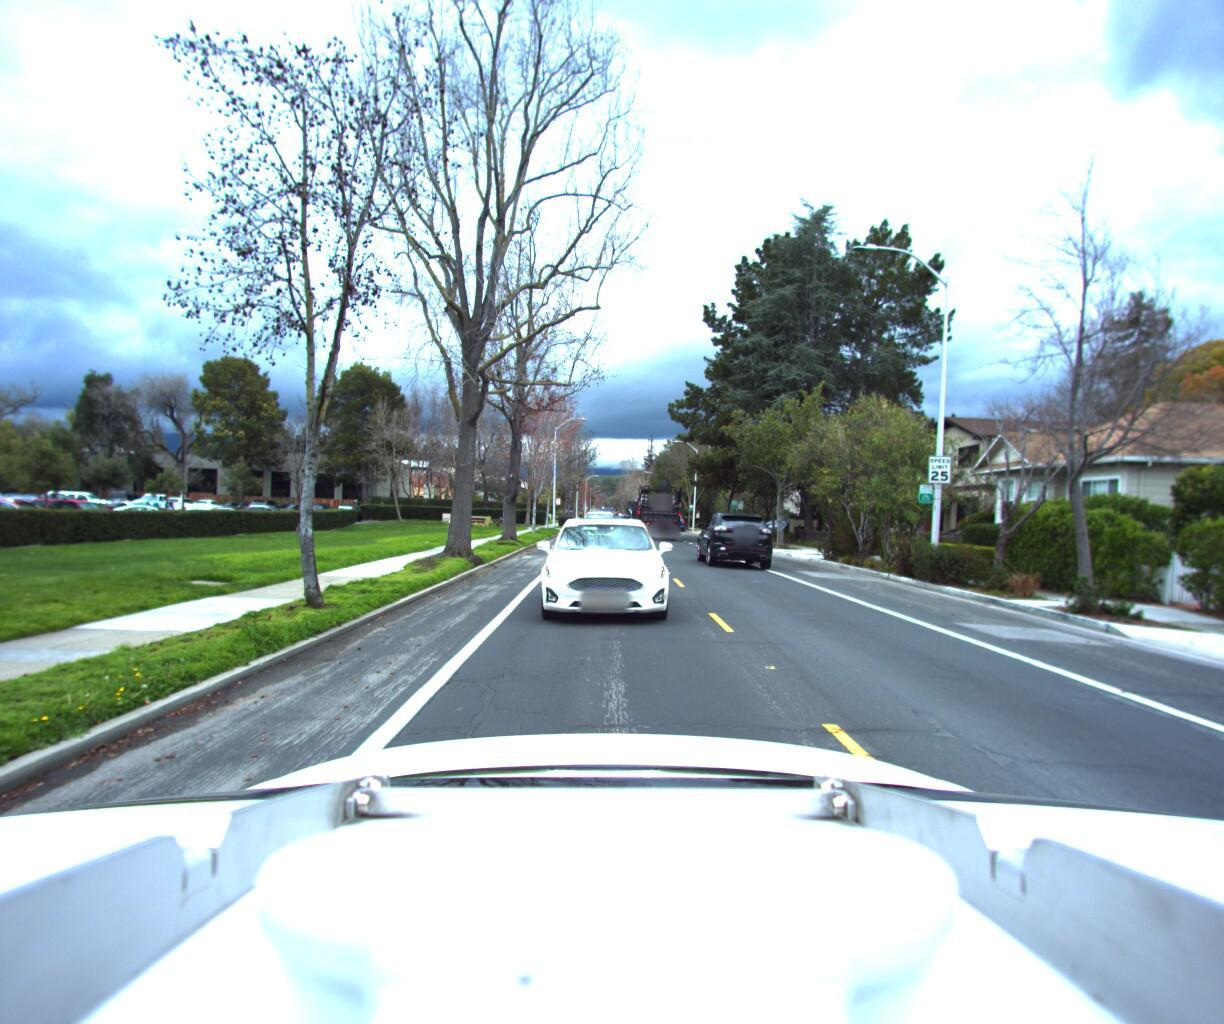car: (528, 513, 671, 629), (694, 511, 772, 568), (584, 513, 619, 542)
truck: (628, 485, 682, 542)
